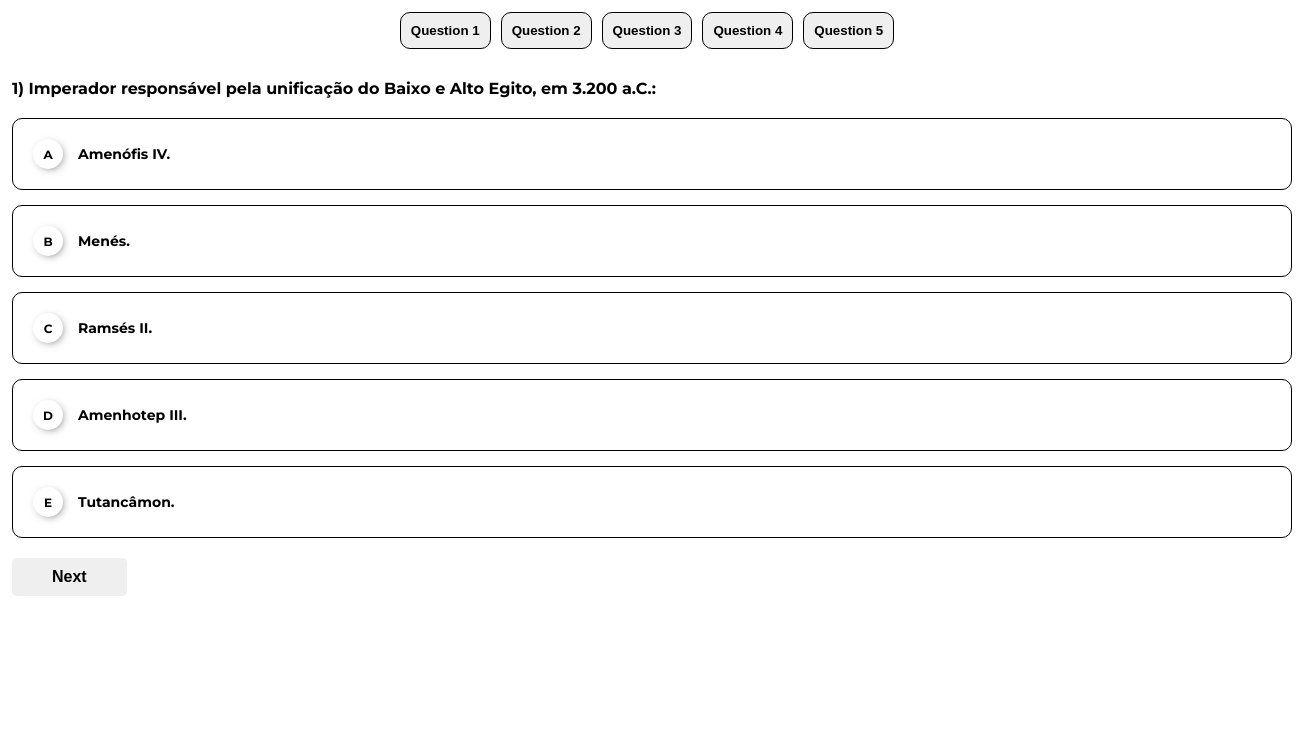
Test case: Quiz › should go to the next question
What coordinates should you click on to do the following:
click the button "Next"
I would click on:
 (69, 577)
Its box is [12,558,127,596].
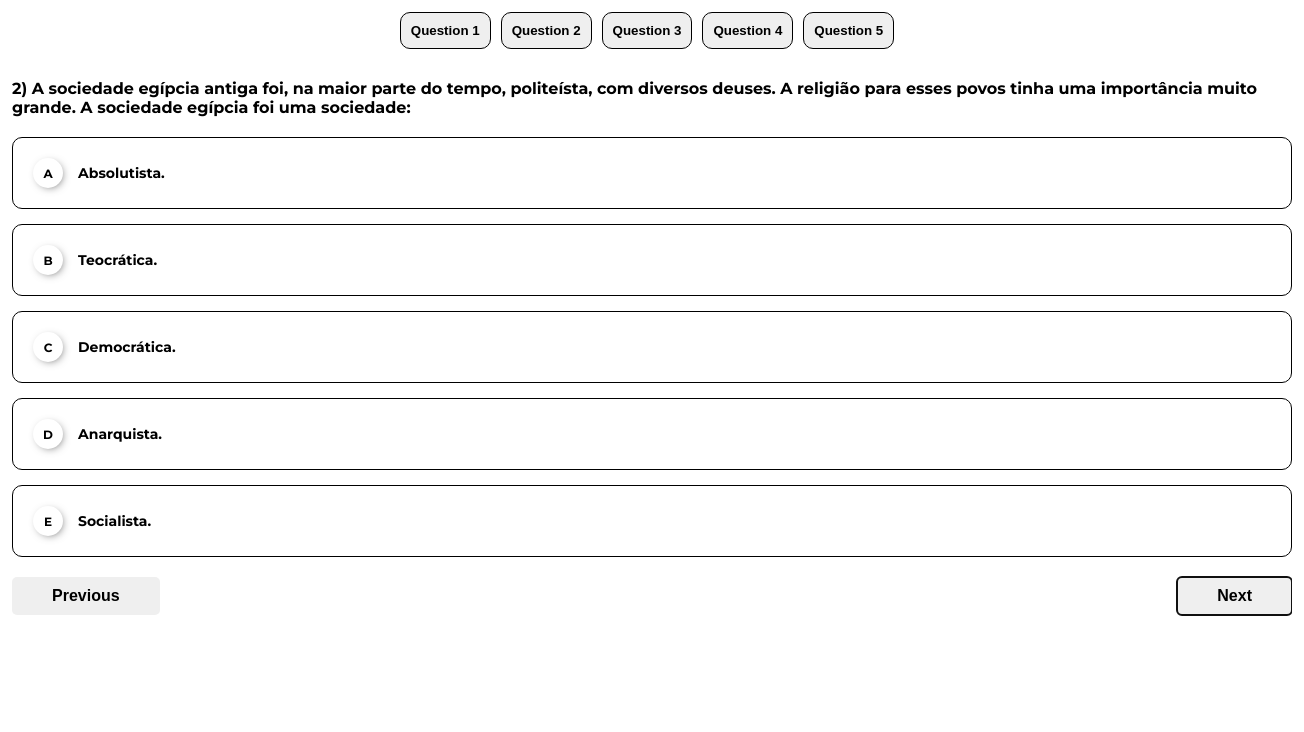
Check: the heading "2)" is shown, box [12,79,1292,117]
